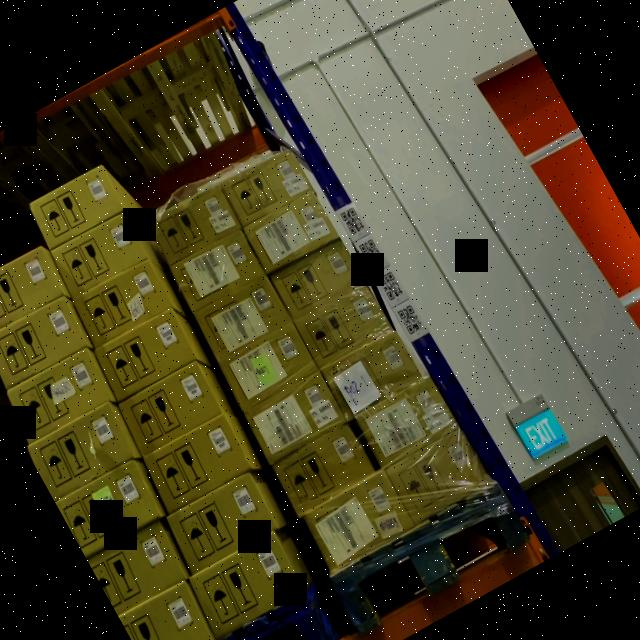box: (188, 530, 308, 638), (304, 470, 416, 572), (167, 472, 278, 572), (27, 400, 138, 499), (54, 458, 164, 556), (4, 348, 115, 445), (386, 425, 493, 524), (141, 414, 250, 511), (272, 421, 378, 516), (92, 309, 198, 401), (245, 371, 349, 463), (116, 362, 220, 454), (90, 520, 190, 614), (356, 374, 458, 466), (194, 273, 295, 364), (74, 257, 175, 346), (322, 330, 422, 418), (0, 294, 90, 389), (50, 212, 150, 296), (294, 281, 391, 367), (220, 323, 318, 408), (269, 237, 366, 322), (30, 164, 127, 248), (148, 180, 244, 264), (170, 227, 266, 311), (244, 190, 339, 273), (222, 148, 312, 228), (0, 245, 68, 337), (120, 579, 217, 640)
